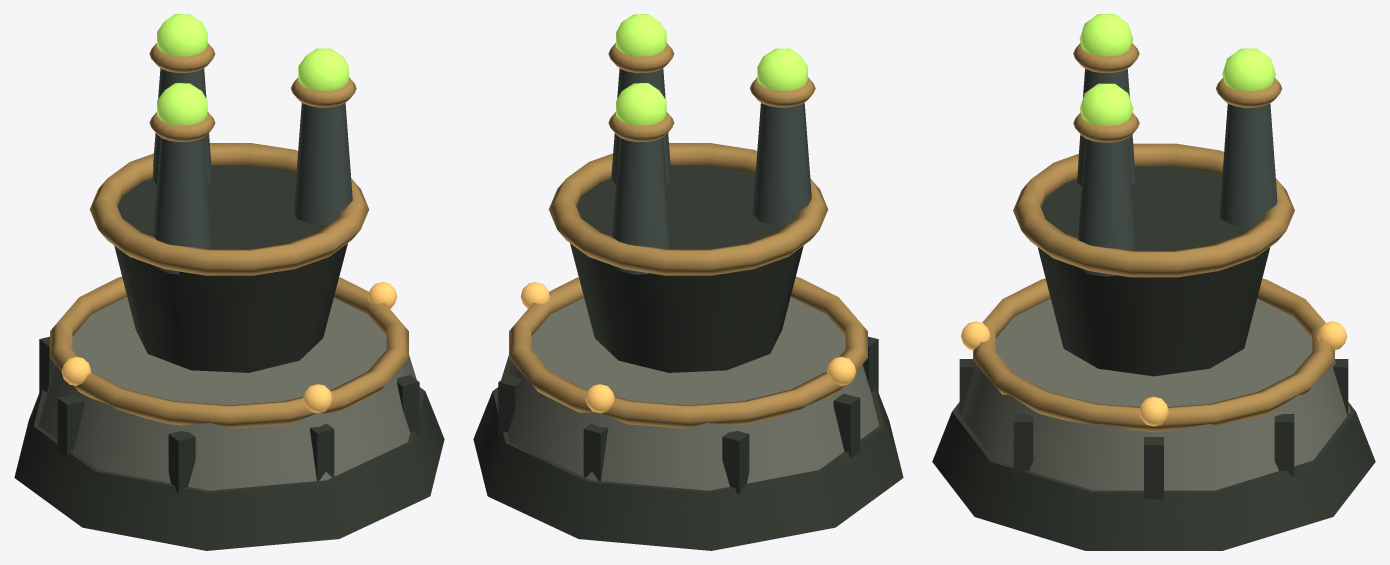
Rendered from tower_poison_poisonCauldron.glb.
3 renders of one model, left to right at view 1: azimuth 30°, elevation 25°; view 2: azimuth 150°, elevation 25°; view 3: azimuth 270°, elevation 25°, orthographic.
Parts seen in each view (by area): view 1: stone_1, vessel_15, foot_0, rim_2, vessel_lip_17, chimney_21, chimney_24, spore_26, spore_20, spore_23, mortar_6, mortar_7 (+10 smaller); view 2: stone_1, vessel_15, foot_0, rim_2, vessel_lip_17, chimney_24, chimney_18, spore_20, spore_26, spore_23, mortar_8, mortar_7 (+10 smaller); view 3: stone_1, vessel_15, foot_0, rim_2, vessel_lip_17, chimney_18, chimney_21, spore_20, spore_23, spore_26, chimney_24, mortar_3 (+10 smaller).
Part boxes in pixels (x1=…): stone_1: x1=38, y1=297, x2=420, y2=490; vessel_15: x1=114, y1=165, x2=347, y2=372; foot_0: x1=14, y1=387, x2=444, y2=550; rim_2: x1=50, y1=276, x2=408, y2=428; vessel_lip_17: x1=89, y1=143, x2=369, y2=275; chimney_21: x1=293, y1=103, x2=352, y2=225; chimney_24: x1=153, y1=137, x2=212, y2=274; spore_26: x1=157, y1=83, x2=207, y2=125; spore_20: x1=157, y1=14, x2=207, y2=56; spore_23: x1=298, y1=48, x2=348, y2=90; mortar_6: x1=168, y1=431, x2=195, y2=494; mortar_7: x1=57, y1=393, x2=84, y2=458; stone_1: x1=497, y1=297, x2=879, y2=490; vessel_15: x1=570, y1=165, x2=803, y2=372; foot_0: x1=473, y1=387, x2=903, y2=550; rim_2: x1=509, y1=276, x2=867, y2=428; vessel_lip_17: x1=548, y1=143, x2=828, y2=275; chimney_24: x1=752, y1=103, x2=811, y2=225; chimney_18: x1=612, y1=137, x2=671, y2=274; spore_20: x1=616, y1=83, x2=666, y2=125; spore_26: x1=757, y1=48, x2=807, y2=90; spore_23: x1=616, y1=14, x2=666, y2=56; mortar_8: x1=722, y1=431, x2=749, y2=494; mortar_7: x1=833, y1=393, x2=860, y2=458; stone_1: x1=957, y1=298, x2=1350, y2=490; vessel_15: x1=1037, y1=166, x2=1270, y2=376; foot_0: x1=932, y1=402, x2=1375, y2=550; rim_2: x1=973, y1=278, x2=1334, y2=431; vessel_lip_17: x1=1013, y1=143, x2=1294, y2=277; chimney_18: x1=1220, y1=103, x2=1277, y2=226; chimney_21: x1=1078, y1=138, x2=1135, y2=276; spore_20: x1=1222, y1=48, x2=1275, y2=91; spore_23: x1=1079, y1=83, x2=1133, y2=125; spore_26: x1=1079, y1=14, x2=1133, y2=56; chimney_24: x1=1077, y1=69, x2=1135, y2=185; mortar_3: x1=1144, y1=437, x2=1163, y2=499.
Bounding box in the file's own units: 0.5326 × 0.574 × 0.56.
